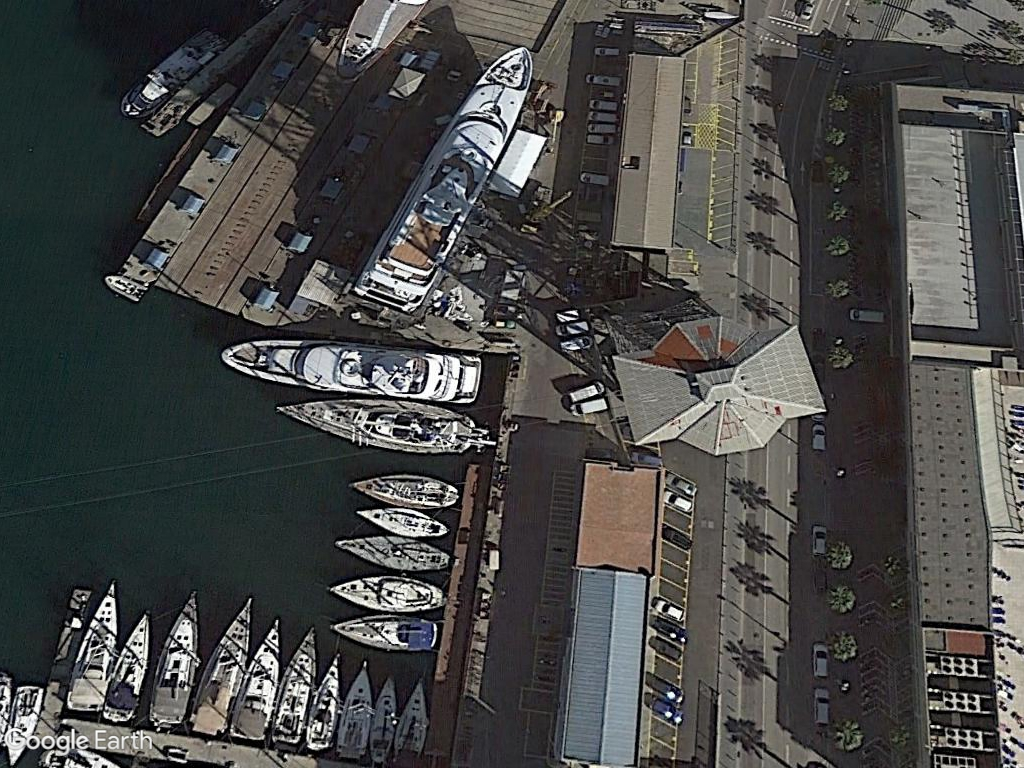boat: (208, 328, 486, 406), (267, 397, 490, 459), (146, 582, 204, 736), (338, 467, 460, 510), (320, 576, 446, 616), (329, 535, 448, 577), (321, 616, 440, 656), (347, 504, 451, 541), (98, 272, 149, 304)
van: (809, 685, 833, 732), (808, 636, 831, 682), (845, 303, 888, 326), (808, 520, 829, 559), (808, 420, 827, 455)
